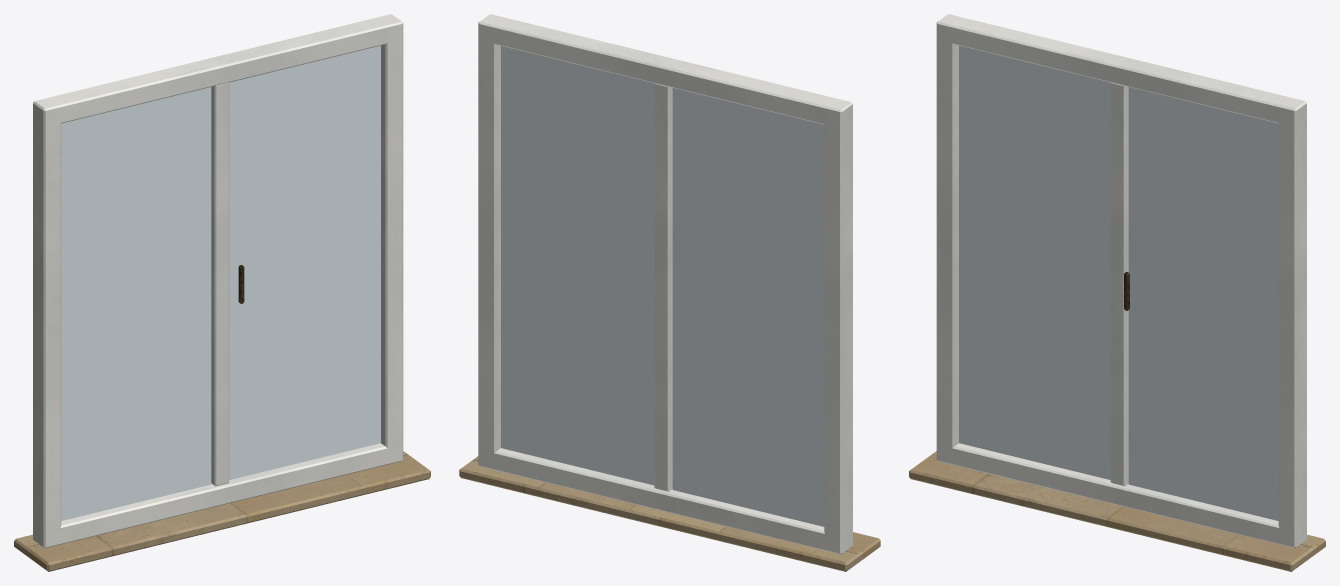
File: window_1200x1400.fbx
3 views of the same model, side by side, from view 1: azimuth 30°, elevation 25°; view 2: azimuth 150°, elevation 25°; view 3: azimuth 330°, elevation 25° (orthographic).
Visible parts, largest first — view 1: window_1200x1400; view 2: window_1200x1400; view 3: window_1200x1400.
Part boxes in pixels (x1,y1,x2,y2): window_1200x1400: (14,14,430,571); window_1200x1400: (459,14,880,571); window_1200x1400: (909,14,1325,571).
Size of what is drawn, in the model's own units: 128 by 143 by 20.
4 materials, 3 textured.
